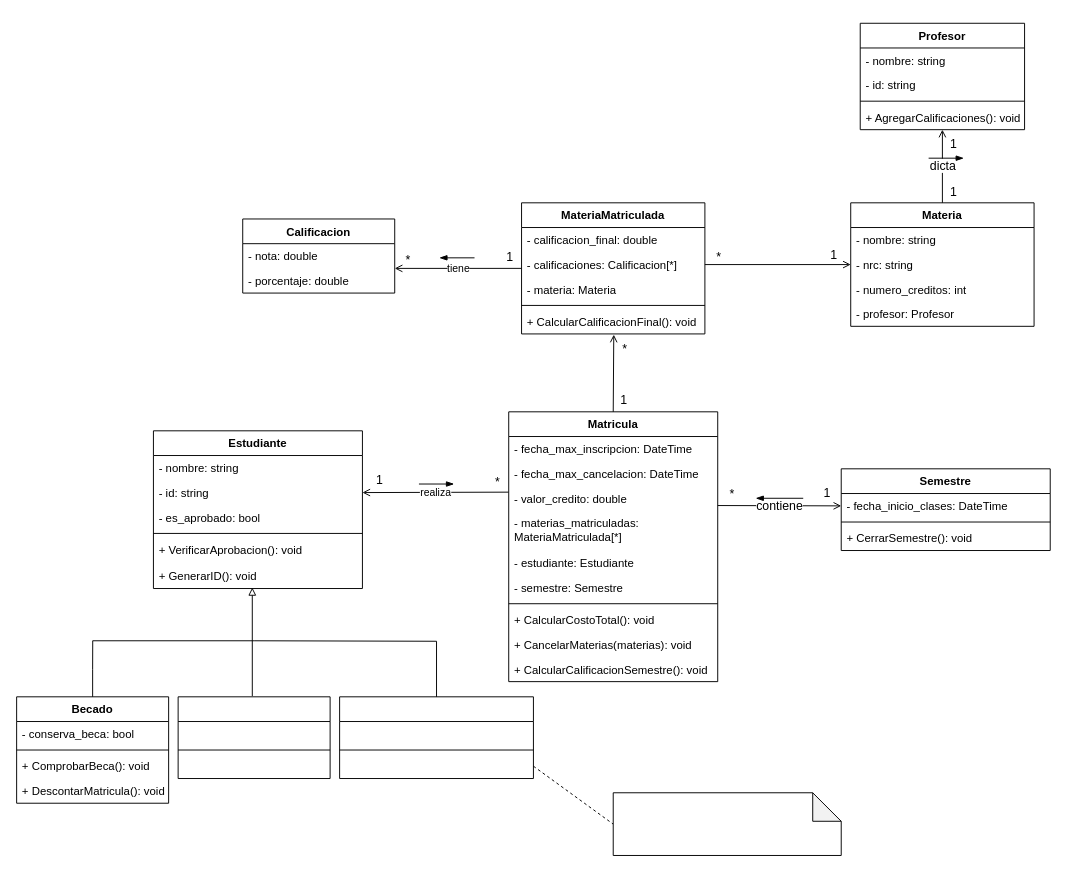
This 1067x872 diagram has some shape labels left out. The centre of each missing label's shape, as x and y in pixels:
"Intercambio" belongs at point 436,737.
"Override VerificarAprobacion()" belongs at point 726,823.
"Regular" belongs at point 253,737.
